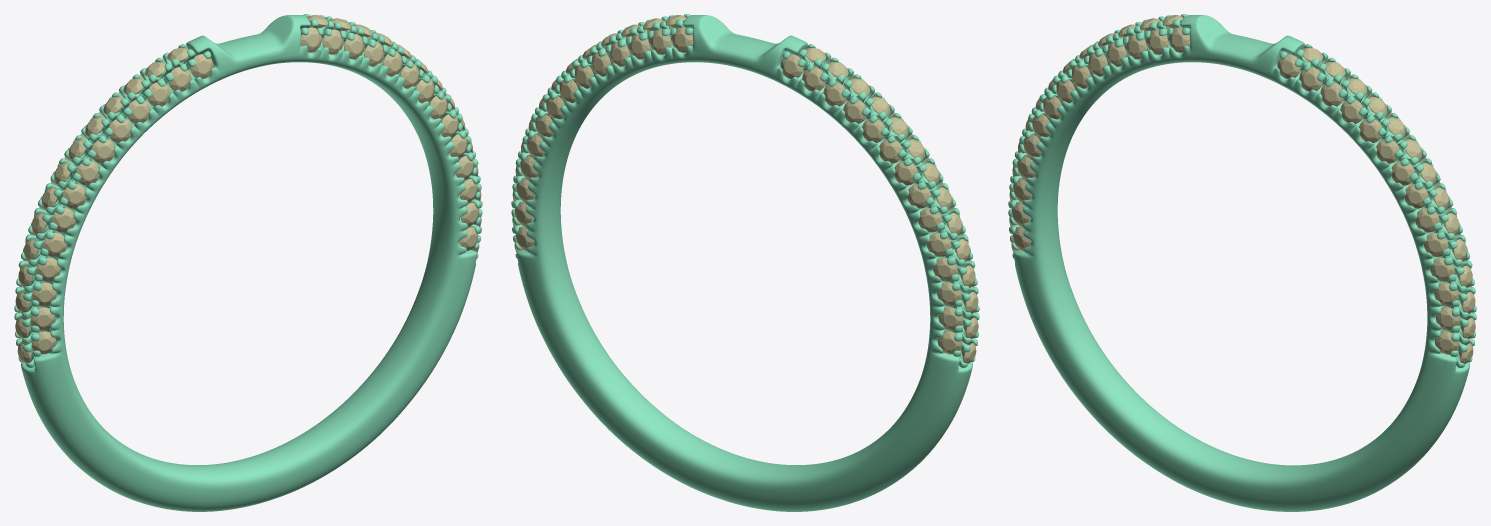
The picture shows the model from 3 angles, left to right: view 1: azimuth 30°, elevation 25°; view 2: azimuth 150°, elevation 25°; view 3: azimuth 330°, elevation 25°; orthographic projection.
Visible parts, largest first — view 1: Metal02; view 2: Metal02; view 3: Metal02.
Part boxes in pixels (bbox=[...]): Metal02: bbox=[14, 14, 482, 511]; Metal02: bbox=[511, 14, 979, 511]; Metal02: bbox=[1008, 14, 1476, 511].
Bounding box in the file's own units: 20.99 × 20.76 × 1.84.
